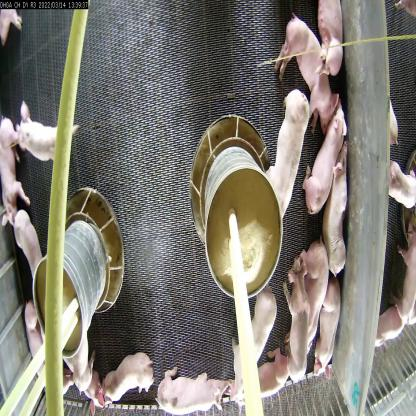Pig: (275, 7, 334, 121), (266, 90, 310, 212), (305, 102, 347, 207), (153, 362, 236, 415), (95, 344, 154, 415), (13, 104, 76, 166), (234, 292, 281, 374), (328, 155, 358, 279), (284, 259, 314, 383), (314, 281, 343, 391), (299, 238, 326, 355), (0, 118, 27, 217), (247, 353, 290, 415), (24, 296, 50, 388), (10, 200, 41, 274), (67, 339, 91, 394)
